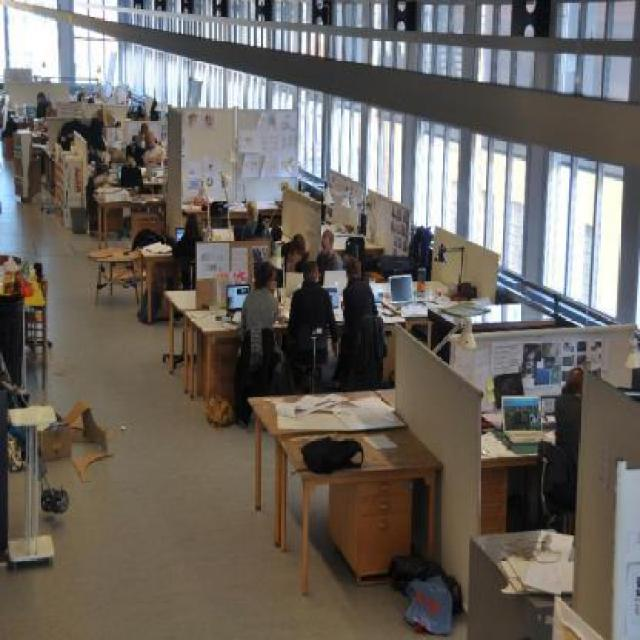Person: (231, 261, 286, 397), (278, 254, 338, 374), (326, 260, 380, 380), (170, 218, 208, 311), (115, 158, 152, 216), (233, 203, 272, 257), (129, 124, 168, 174)
